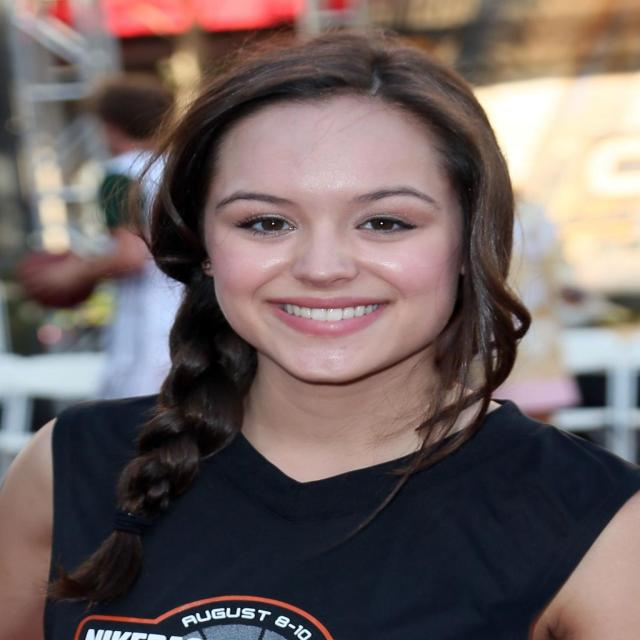Face: (217, 94, 478, 383)
